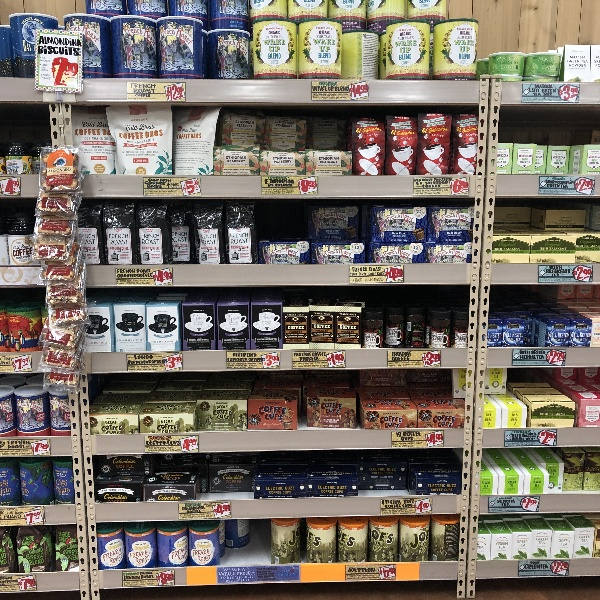void: (195, 455, 255, 500), (357, 448, 412, 495), (220, 519, 269, 566)
